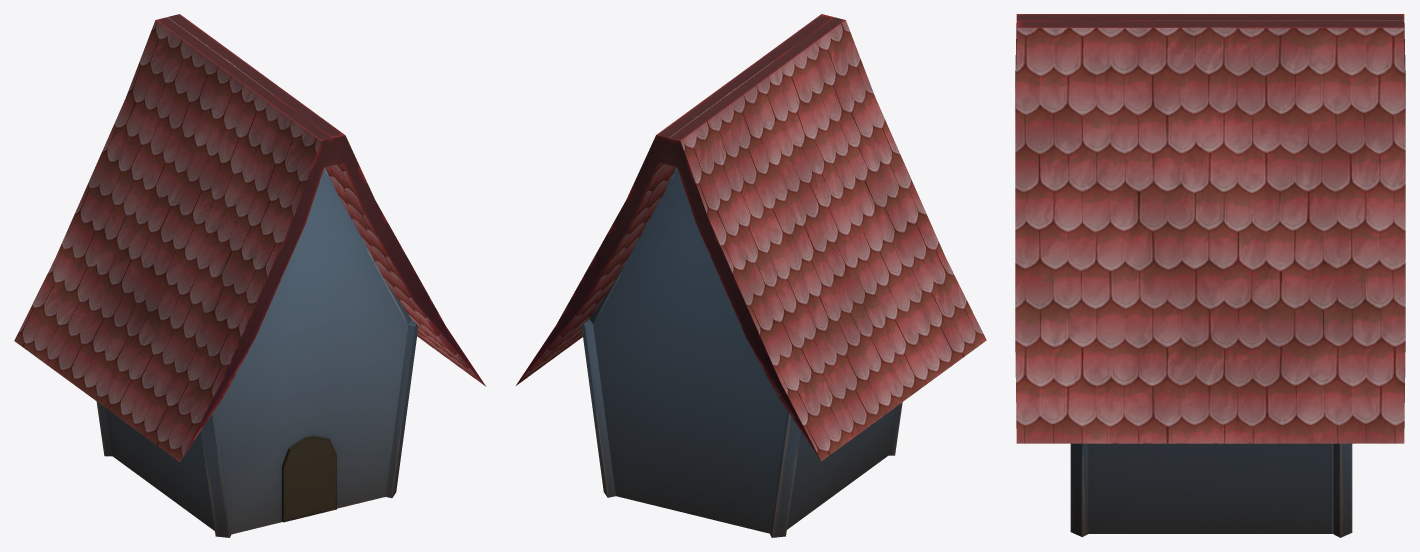
The model's file is House2 1.fbx.
3 views of the same model, side by side, from view 1: azimuth 30°, elevation 25°; view 2: azimuth 150°, elevation 25°; view 3: azimuth 270°, elevation 25° (orthographic). The views are drawn at different scales.
Visible parts, largest first — view 1: Cube.011, Cube.004; view 2: Cube.011, Cube.004; view 3: Cube.011, Cube.004.
Part boxes in pixels (<box>): Cube.011: <box>14,14,486,461</box>; Cube.004: <box>96,167,418,537</box>; Cube.011: <box>516,14,986,461</box>; Cube.004: <box>581,167,902,537</box>; Cube.011: <box>1015,14,1405,443</box>; Cube.004: <box>1070,443,1352,537</box>.
Bounding box in the file's own units: 1303 × 1611 × 1227.
Materials: 1 (1 with a texture image).
